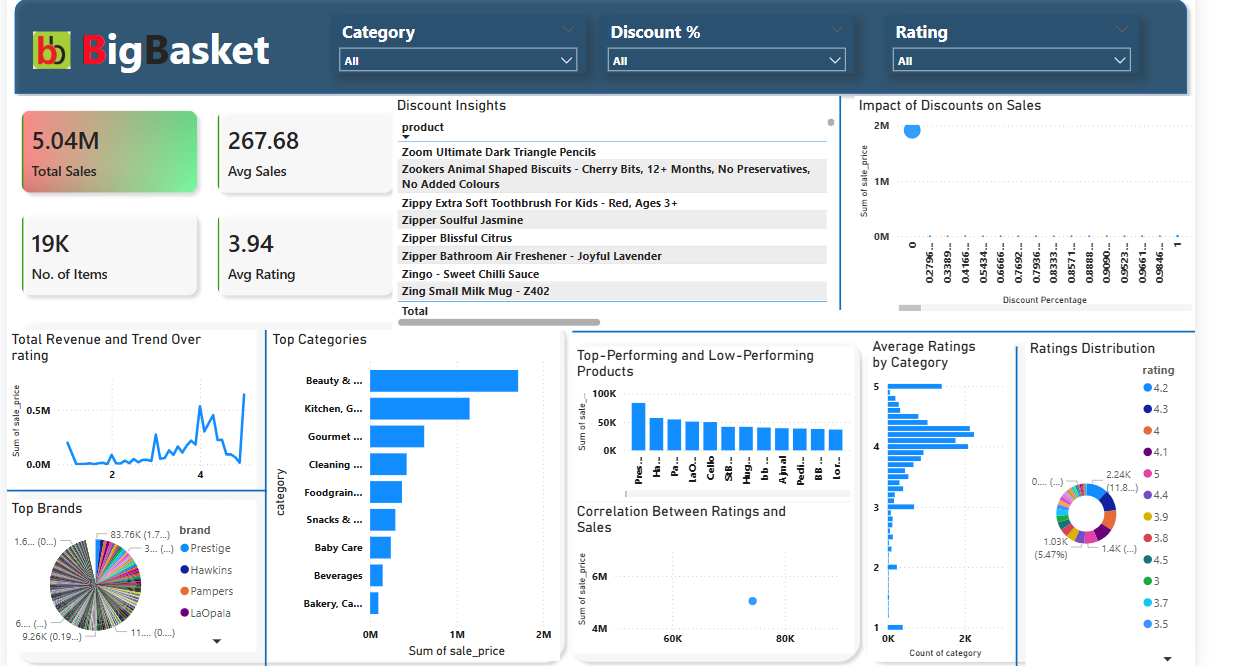

Layout of this report page (visuals, bound fields, positions):
{"tool":"powerbi","page":{"name":"Page 1","canvas":[1400,800],"ordinal":0},"visuals":[{"type":"shape","box":[0,0,1399.3,130.2],"z":0},{"type":"textbox","box":[80.6,28.9,246,74.4],"z":1000},{"type":"cardVisual","fields":{"Data":["BigBasket Products.Total Sales","BigBasket Products.Avg Sales","BigBasket Products.No. of Items","BigBasket Products.Avg Rating"]},"box":[0,124,472,252],"z":2000},{"type":"shape","box":[0,376,666,424],"z":3000},{"type":"lineChart","title":"Total Revenue and Trend Over rating","fields":{"Category":["BigBasket Products.rating"],"Y":["Sum(BigBasket Products.sale_price)"]},"box":[0,400,294,188],"z":4000},{"type":"clusteredBarChart","title":"Top Categories ","fields":{"Y":["Sum(BigBasket Products.sale_price)"],"Category":["BigBasket Products.category"]},"box":[308,400,344,390],"z":5000},{"type":"pieChart","title":"Top Brands","fields":{"Y":["Sum(BigBasket Products.sale_price)"],"Category":["BigBasket Products.brand"]},"box":[0,600,294,180],"z":6000},{"type":"shape","box":[138,400,334,400],"z":7000},{"type":"shape","box":[0,474,306,230],"z":8000},{"type":"tableEx","title":" Discount Insights","fields":{"Values":["BigBasket Products.product","BigBasket Products.category","Sum(BigBasket Products.sale_price)","Sum(BigBasket Products.market_price)","BigBasket Products.Discount Percentage"]},"box":[454,124,526,276],"z":9000},{"type":"scatterChart","title":"Impact of Discounts on Sales","fields":{"X":["BigBasket Products.Discount Percentage"],"Y":["Sum(BigBasket Products.sale_price)"],"Size":["Sum(BigBasket Products.rating)"]},"box":[998,124,402,258],"z":10000},{"type":"shape","box":[814,124,334,252],"z":11000},{"type":"shape","box":[666,286,734,230],"z":12000},{"type":"shape","box":[652,402,362,398],"z":13000},{"type":"columnChart","title":"Top-Performing and Low-Performing Products","fields":{"Category":["BigBasket Products.brand"],"Y":["Sum(BigBasket Products.sale_price)"]},"box":[666,418,332,182],"z":14000},{"type":"scatterChart","title":"Correlation Between Ratings and Sales","fields":{"X":["Sum(BigBasket Products.rating)"],"Y":["Sum(BigBasket Products.sale_price)"]},"box":[666,602,332,178],"z":15000},{"type":"shape","box":[998,402,402,398],"z":16000},{"type":"clusteredBarChart","title":"Average Ratings by Category","fields":{"Y":["CountNonNull(BigBasket Products.category)"],"Category":["BigBasket Products.rating"]},"box":[1014,408,172,382],"z":17000},{"type":"donutChart","title":"Ratings Distribution","fields":{"Category":["BigBasket Products.rating"],"Y":["CountNonNull(BigBasket Products.product)"]},"box":[1200,410,200,390],"z":18000},{"type":"shape","box":[1128,418,124,382],"z":19000},{"type":"image","box":[24,42,56,54],"z":20000},{"type":"slicer","fields":{"Values":["BigBasket Products.category"]},"box":[382,28,300,68],"z":21000},{"type":"slicer","fields":{"Values":["BigBasket Products.Discount Percentage"]},"box":[698,28,300,68],"z":22000},{"type":"slicer","fields":{"Values":["BigBasket Products.rating"]},"box":[1034,28,300,68],"z":23000}]}

Visuals, with their boxes on the page's 1400x800 design canvas (x1, y1, x2, y2). These are canvas units, not pixel positions in the 1233x666 screenshot, which may show the page scaled, cropped or inside an application window:
shape: <region>0, 0, 1399, 130</region>
textbox: <region>81, 29, 327, 103</region>
cardVisual - BigBasket Products.Total Sales x BigBasket Products.Avg Sales: <region>0, 124, 472, 376</region>
shape: <region>0, 376, 666, 800</region>
"Total Revenue and Trend Over rating" lineChart: <region>0, 400, 294, 588</region>
"Top Categories " clusteredBarChart: <region>308, 400, 652, 790</region>
"Top Brands" pieChart: <region>0, 600, 294, 780</region>
shape: <region>138, 400, 472, 800</region>
shape: <region>0, 474, 306, 704</region>
" Discount Insights" tableEx: <region>454, 124, 980, 400</region>
"Impact of Discounts on Sales" scatterChart: <region>998, 124, 1400, 382</region>
shape: <region>814, 124, 1148, 376</region>
shape: <region>666, 286, 1400, 516</region>
shape: <region>652, 402, 1014, 800</region>
"Top-Performing and Low-Performing Products" columnChart: <region>666, 418, 998, 600</region>
"Correlation Between Ratings and Sales" scatterChart: <region>666, 602, 998, 780</region>
shape: <region>998, 402, 1400, 800</region>
"Average Ratings by Category" clusteredBarChart: <region>1014, 408, 1186, 790</region>
"Ratings Distribution" donutChart: <region>1200, 410, 1400, 800</region>
shape: <region>1128, 418, 1252, 800</region>
image: <region>24, 42, 80, 96</region>
slicer - BigBasket Products.category: <region>382, 28, 682, 96</region>
slicer - BigBasket Products.Discount Percentage: <region>698, 28, 998, 96</region>
slicer - BigBasket Products.rating: <region>1034, 28, 1334, 96</region>
